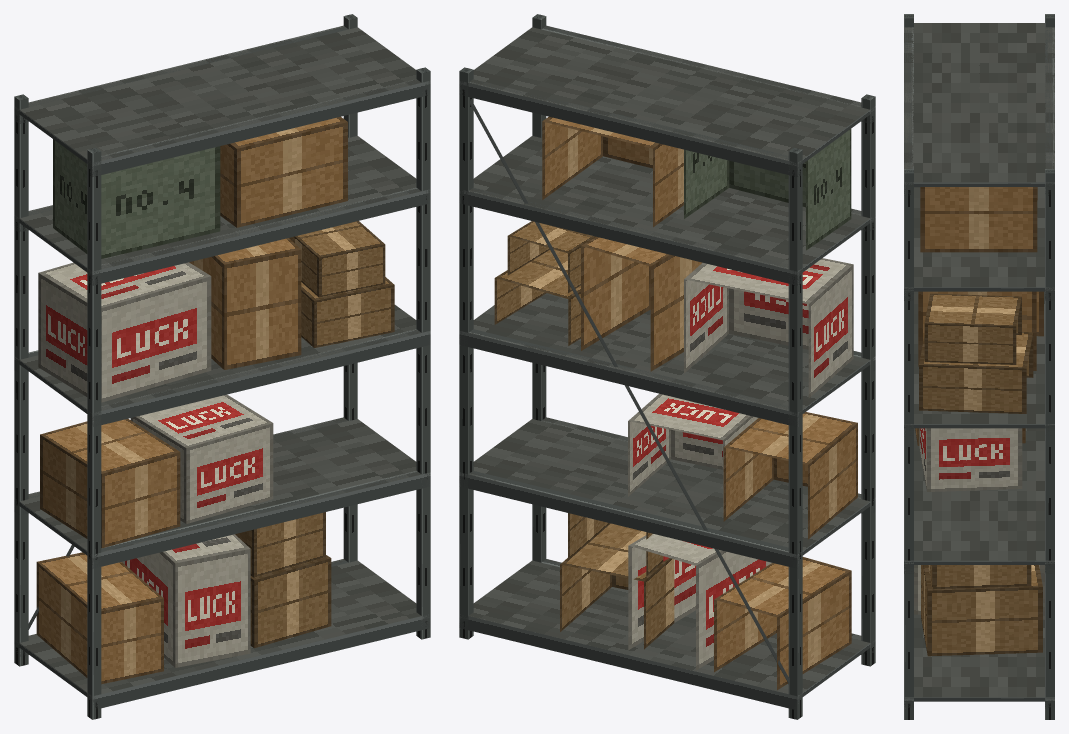
The model's file is industrial_shelf.glb.
3 views of the same model, side by side, from view 1: azimuth 30°, elevation 25°; view 2: azimuth 150°, elevation 25°; view 3: azimuth 270°, elevation 25° (orthographic). The views are drawn at different scales.
Parts seen in each view (by area): view 1: IndustrialShelf; view 2: IndustrialShelf; view 3: IndustrialShelf.
Part boxes in pixels (x1,y1,x2,y2): IndustrialShelf: [14, 14, 430, 719]; IndustrialShelf: [459, 14, 875, 719]; IndustrialShelf: [904, 14, 1054, 719].
Size of what is drawn, in the model's own units: 1.5 by 2.4 by 0.6.
1 material, 1 textured.
